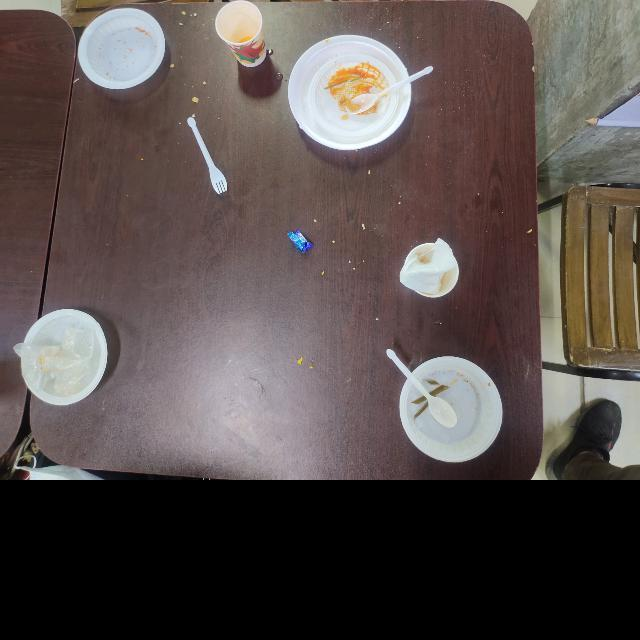kitchen paper: (399, 235, 460, 297)
